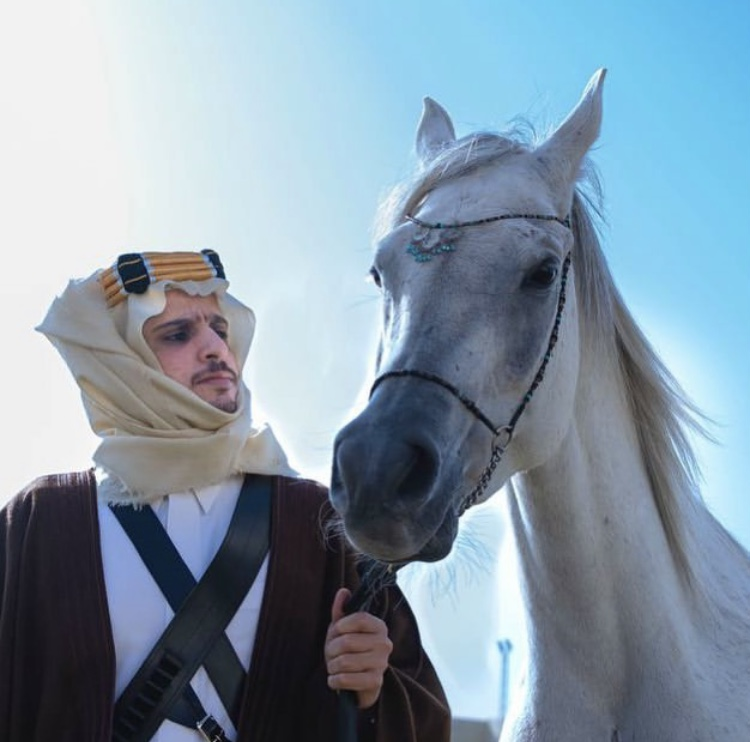Saudi_Founding_Day: (1, 245, 456, 742)
